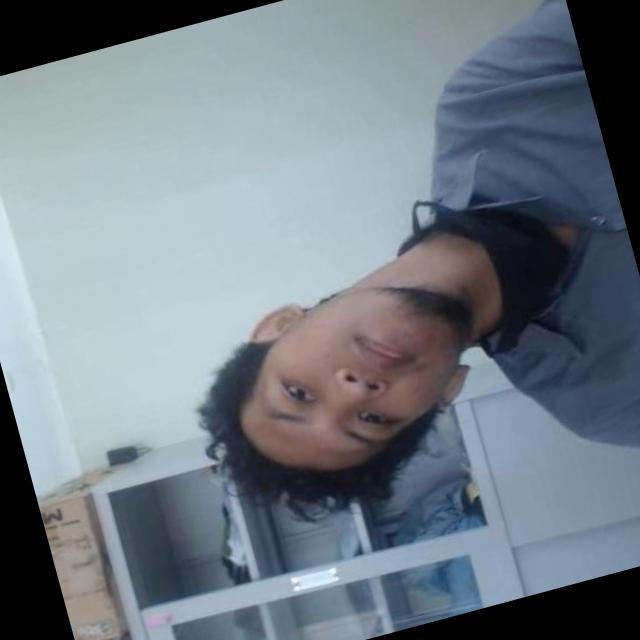bareface: (193, 274, 488, 506)
